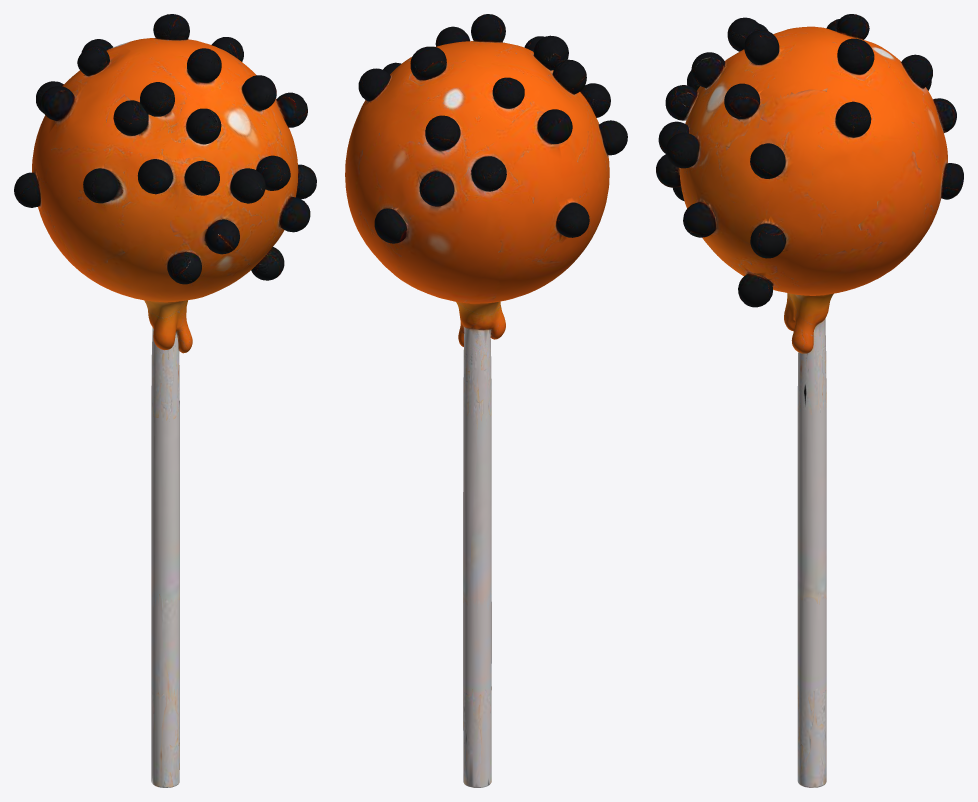
3 views of the same model, side by side, from view 1: azimuth 30°, elevation 25°; view 2: azimuth 150°, elevation 25°; view 3: azimuth 270°, elevation 25° (orthographic).
Size of the model in its own units: 0.6841 by 1.9 by 0.7005.
Materials: 1 (1 with a texture image).
